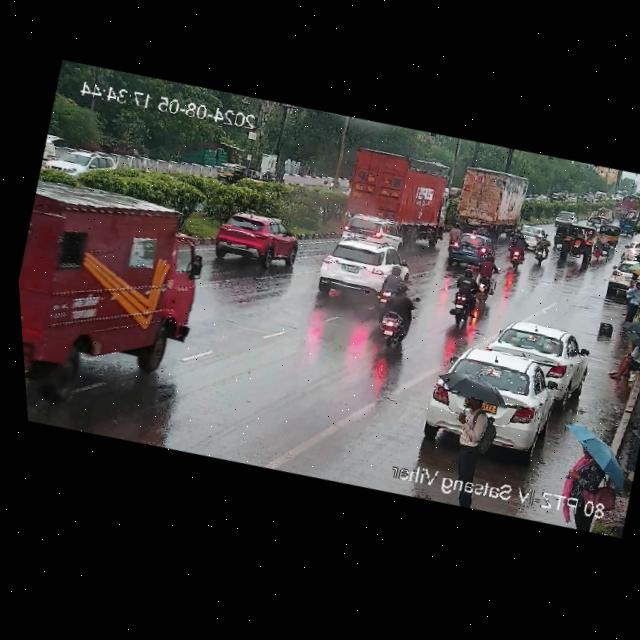car: (419, 336, 566, 468), (477, 310, 595, 415), (306, 227, 422, 320), (205, 198, 304, 277), (39, 133, 120, 186), (441, 218, 502, 274), (210, 157, 260, 192), (613, 212, 639, 238), (550, 207, 577, 229)
motorcycle: (369, 277, 418, 350), (443, 264, 483, 332), (472, 249, 504, 302), (502, 229, 535, 270), (529, 230, 553, 264)
person: (422, 370, 510, 479), (549, 421, 640, 507), (609, 315, 640, 381), (615, 274, 640, 324)
truck: (12, 165, 222, 401), (324, 135, 458, 261), (439, 155, 538, 253)
